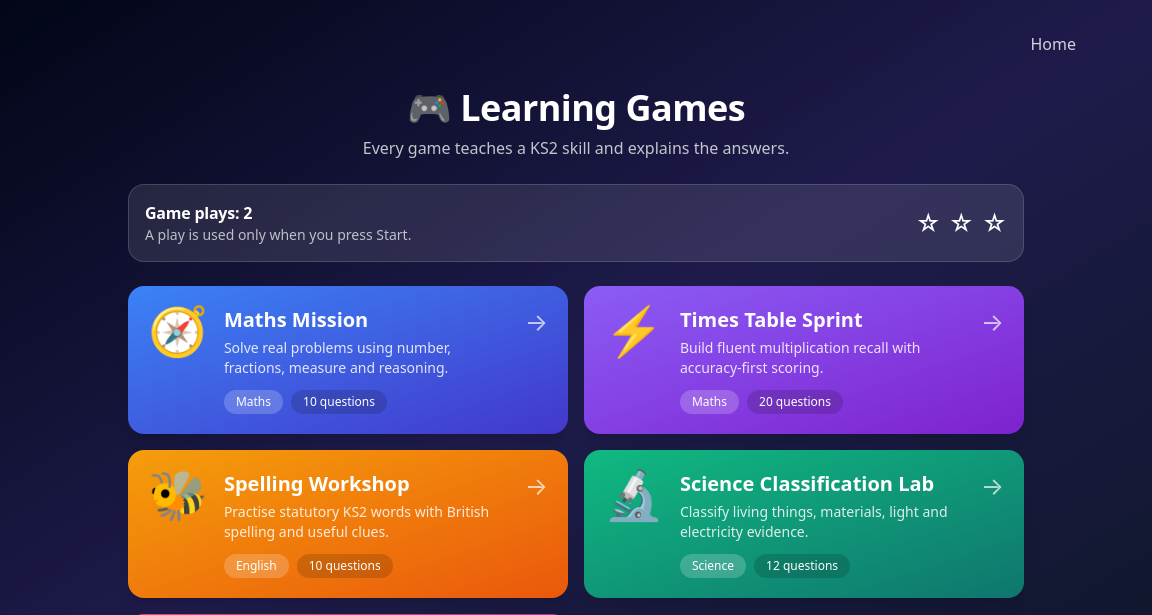
Test: MiniGames › does not spend a play when a learner merely opens a game card
Step 1. Click the button with aria-label "Maths Mission, Maths" → point(348, 360), box [128,286,568,434]
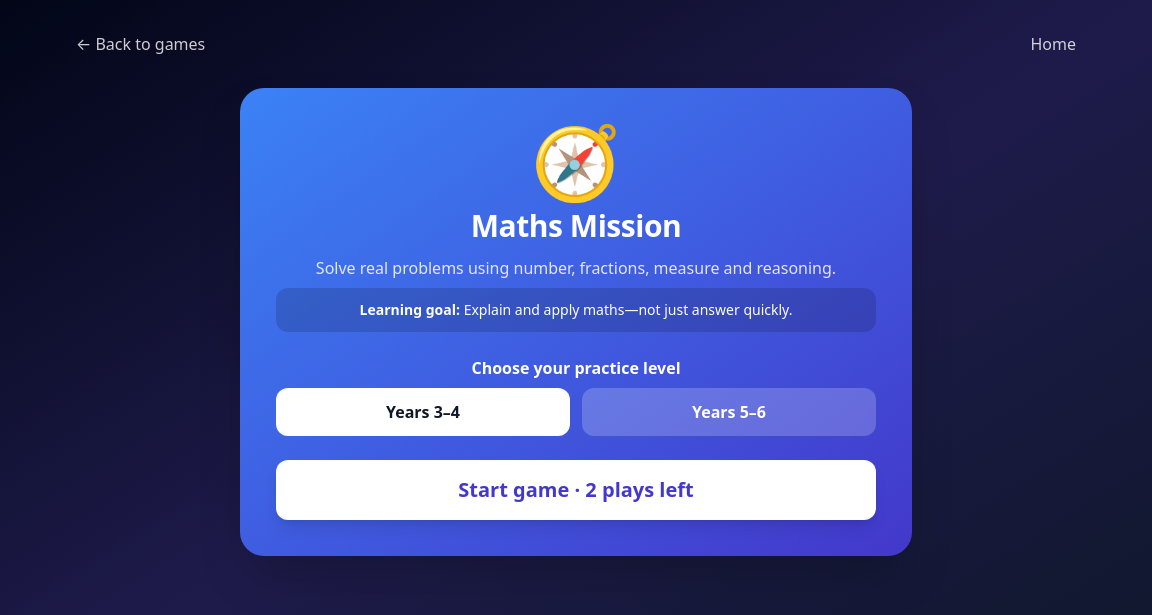
Step 2. Click the button "Start game · 2 plays left" → point(576, 490), box [276,460,876,520]
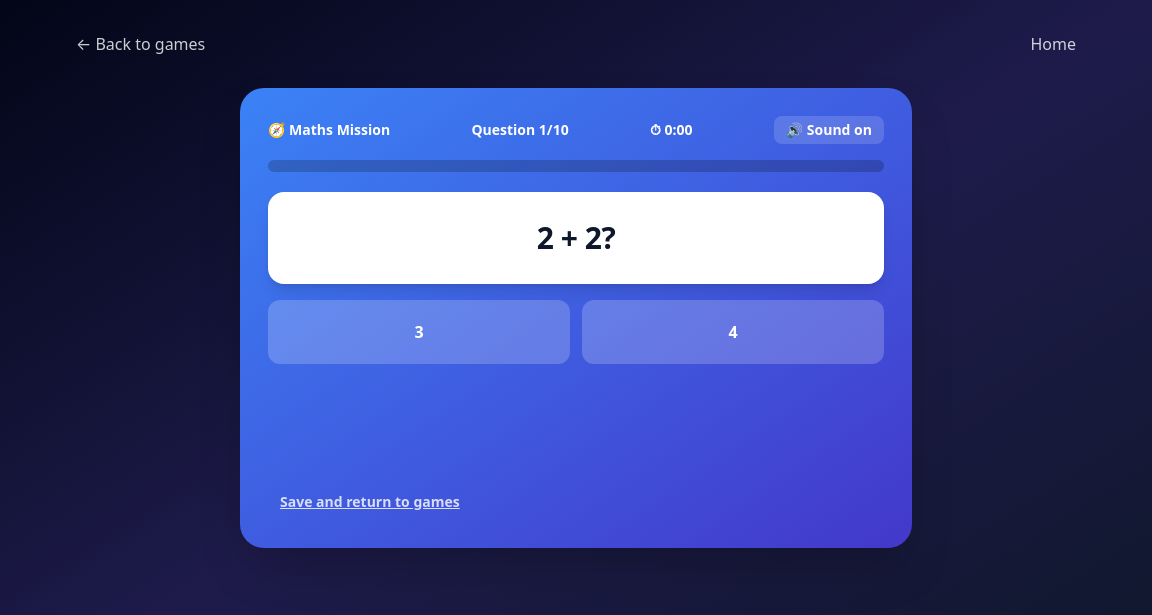
Result: the heading "2 + 2?" is shown at [537,217,615,258]
